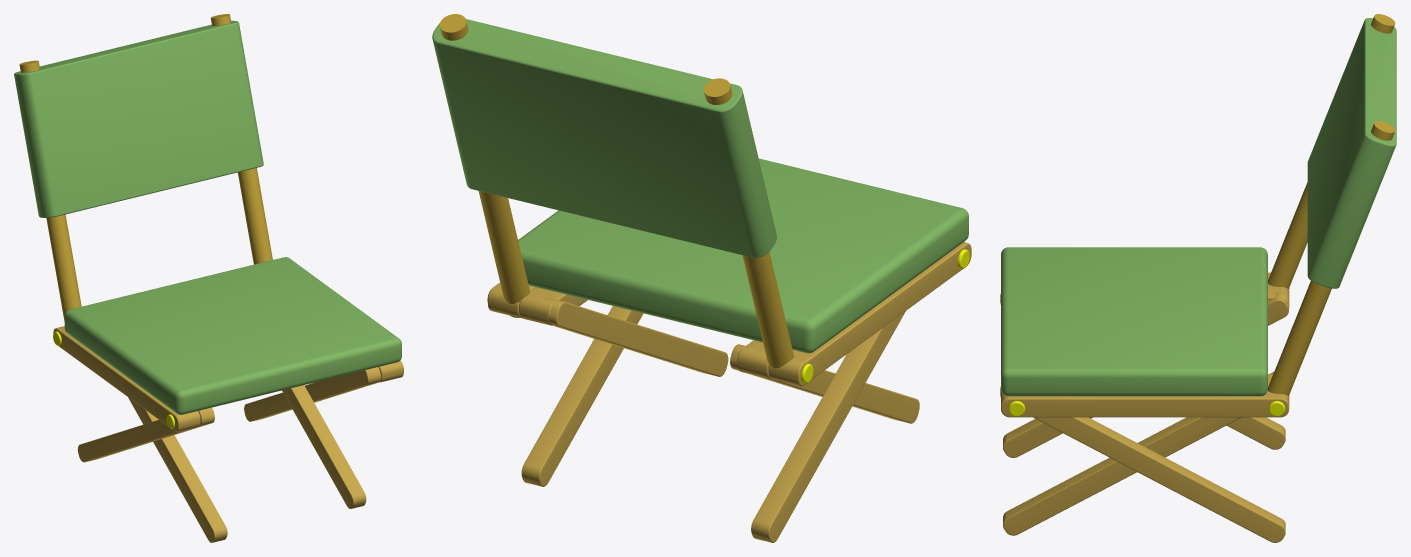
File: Children chair.fbx
3 views of the same model, side by side, from view 1: azimuth 30°, elevation 25°; view 2: azimuth 150°, elevation 25°; view 3: azimuth 270°, elevation 25° (orthographic). The views are drawn at different scales.
Visible parts, largest first — view 1: 立方体.004, Cube, 立方体.002, 立方体.001, 柱体.002, 立方体; view 2: 立方体.004, Cube, 立方体.001, 立方体.002, 柱体.002, 立方体, 立方体.003; view 3: Cube, 立方体.004, 立方体.001, 立方体.002, 立方体, 柱体.002.
Boxes of the visible parts, x1,y1,x2,y2 form: 立方体.004: (14,20,263,217); Cube: (64,257,401,414); 立方体.002: (128,385,366,542); 立方体.001: (77,367,381,462); 柱体.002: (19,14,272,321); 立方体: (53,326,403,431); 立方体.004: (432,19,776,257); Cube: (518,158,968,353); 立方体.001: (521,306,905,542); 立方体.002: (544,297,919,423); 柱体.002: (439,14,793,382); 立方体: (488,242,971,386); 立方体.003: (519,287,770,378); Cube: (1001,247,1267,396); 立方体.004: (1307,18,1396,288); 立方体.001: (1000,293,1285,542); 立方体.002: (1003,292,1288,535); 立方体: (1001,272,1289,417); 柱体.002: (1267,14,1395,395).
Bounding box in the file's own units: 204 × 312 × 264.
